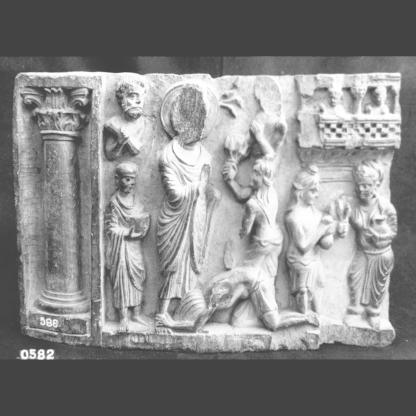buddha-standing: (159, 77, 227, 329)
